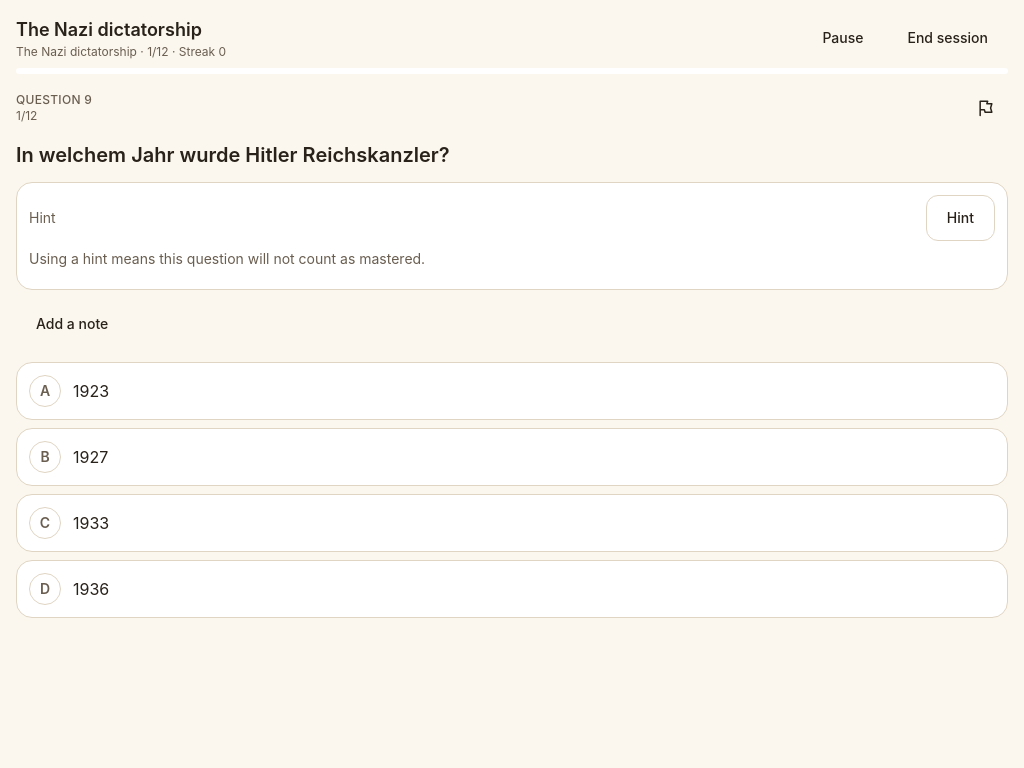
Test: quitting mid-session › keeps going when the confirmation is declined
Check: the heading "In welchem Jahr wurde Hitler Reichskanzler?" is shown, box [16,143,450,167]
Click the button "End session" at (948, 38), box [888,16,1008,60]
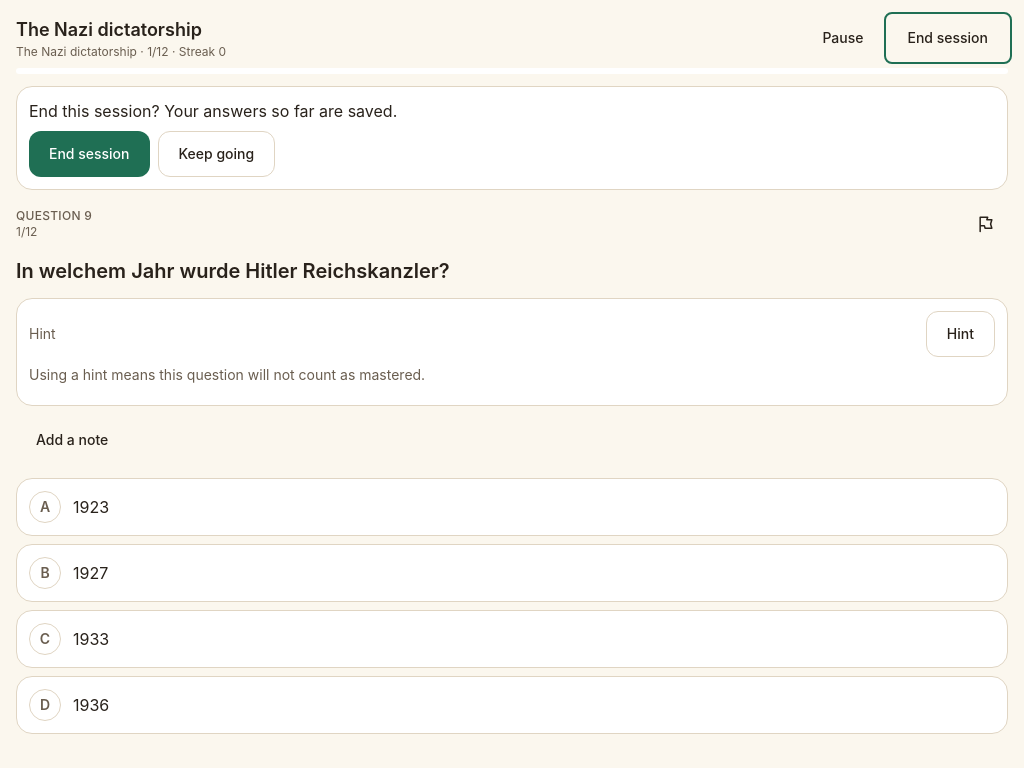
Click the button "Keep going" at (216, 154), box [158,131,275,177]
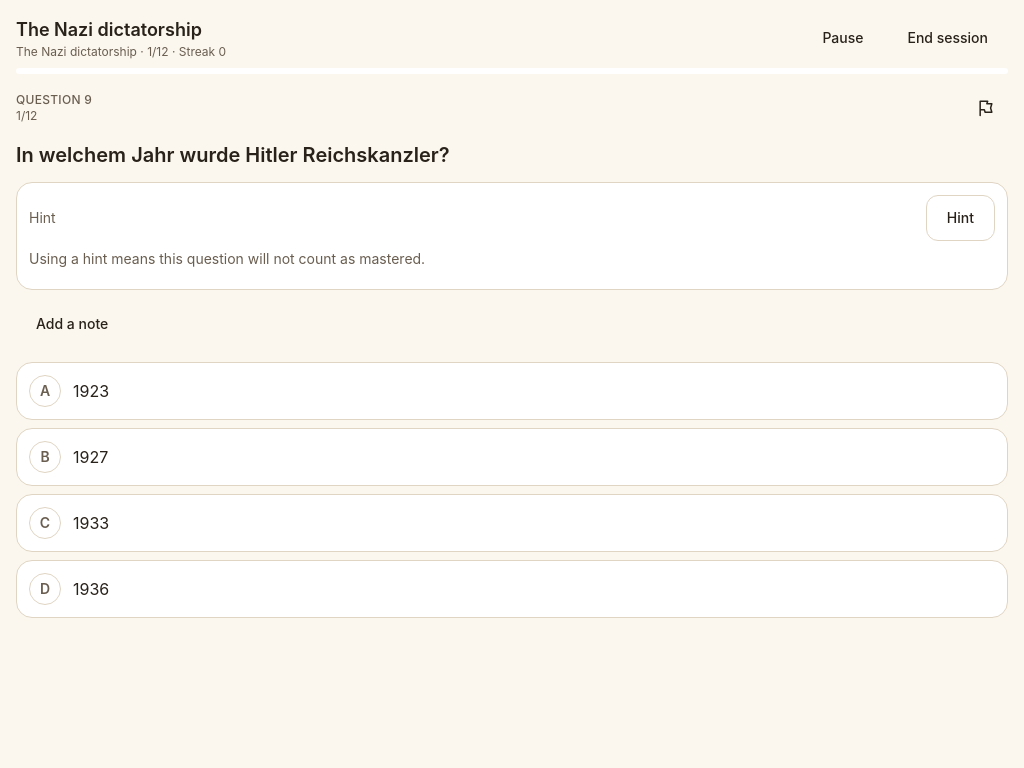
Check: the heading "In welchem Jahr wurde Hitler Reichskanzler?" is shown, box [16,143,450,167]
Check: the dialog is gone
